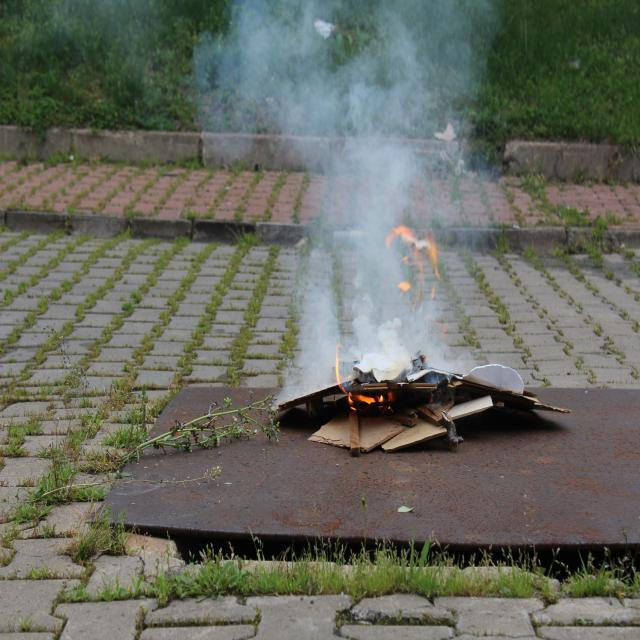fire: (374, 213, 440, 318), (331, 332, 399, 429)
